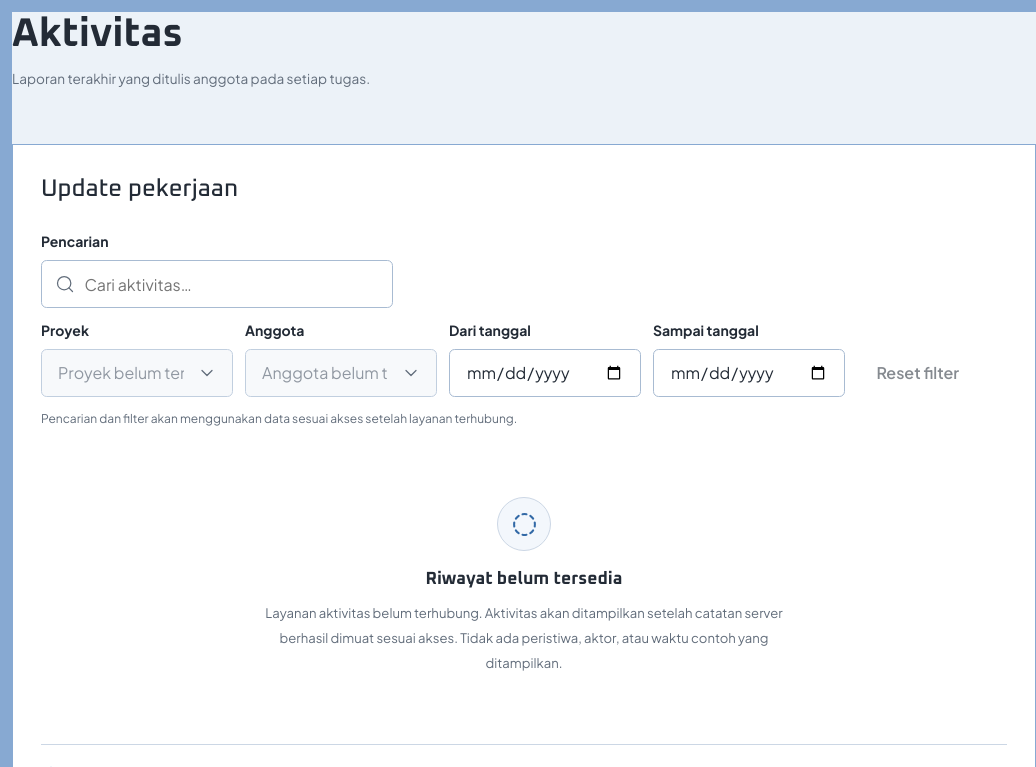
Test case: Activity alignment › keeps updates and compact filters in one panel without sample history
Expected: the heading "Riwayat belum tersedia" is shown, [426, 567, 622, 592]
Expected: the dropdown labelled "Anggota" is disabled, [245, 349, 437, 397]
Type "teks" into the search field labelled "Pencarian". click: x=217, y=284
box: [41, 260, 393, 308]
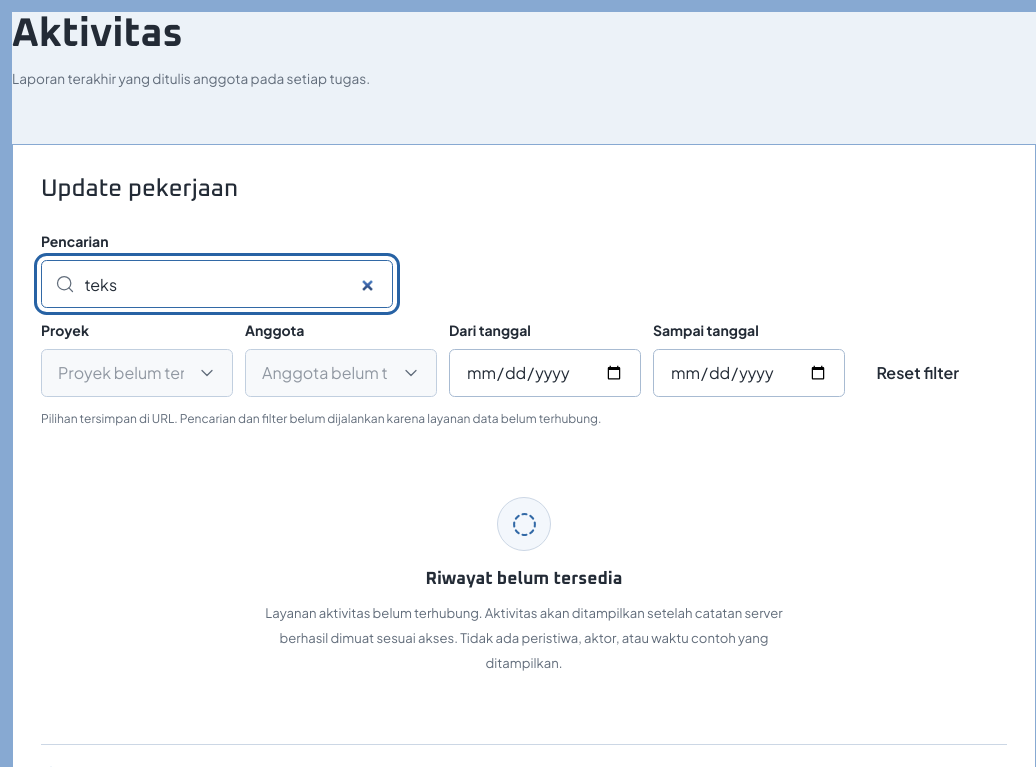
Result: the text "Pilihan tersimpan di URL" is shown at [41, 411, 601, 426]
